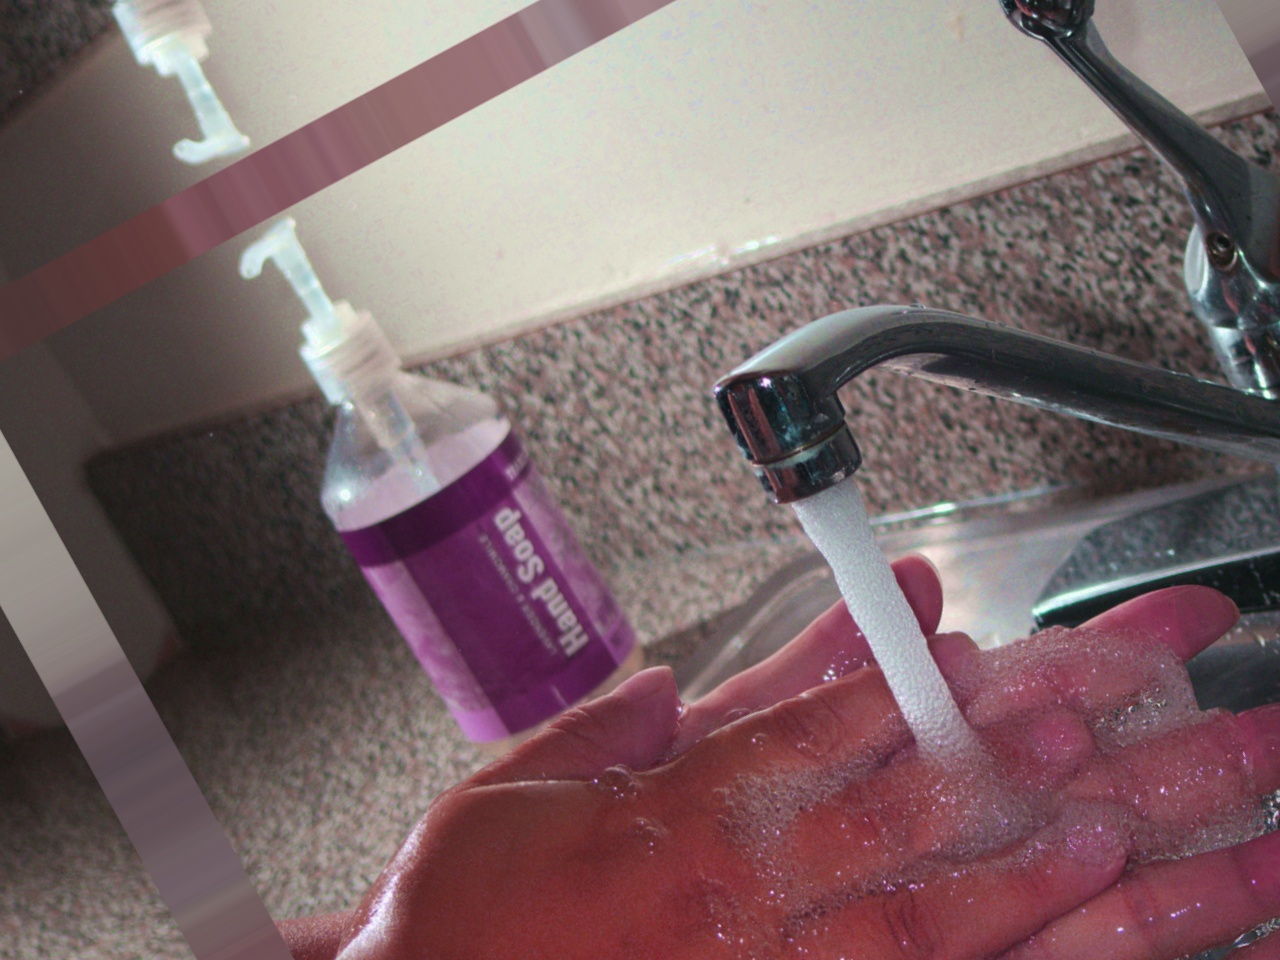washing hand: (248, 132, 1279, 959)
